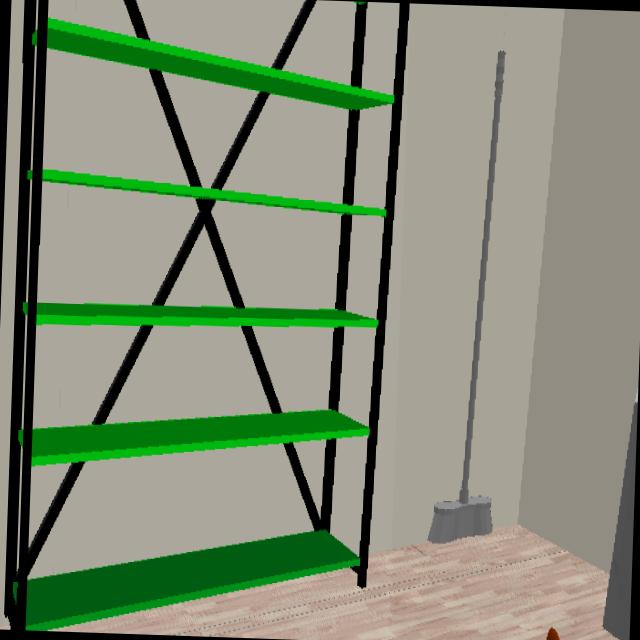shelf: (4, 0, 410, 631)
